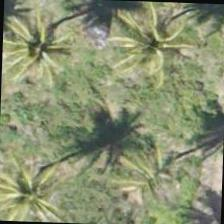Kelapa_Sawit: (110, 120, 204, 213), (112, 3, 204, 96), (0, 8, 80, 101), (0, 146, 74, 223)
